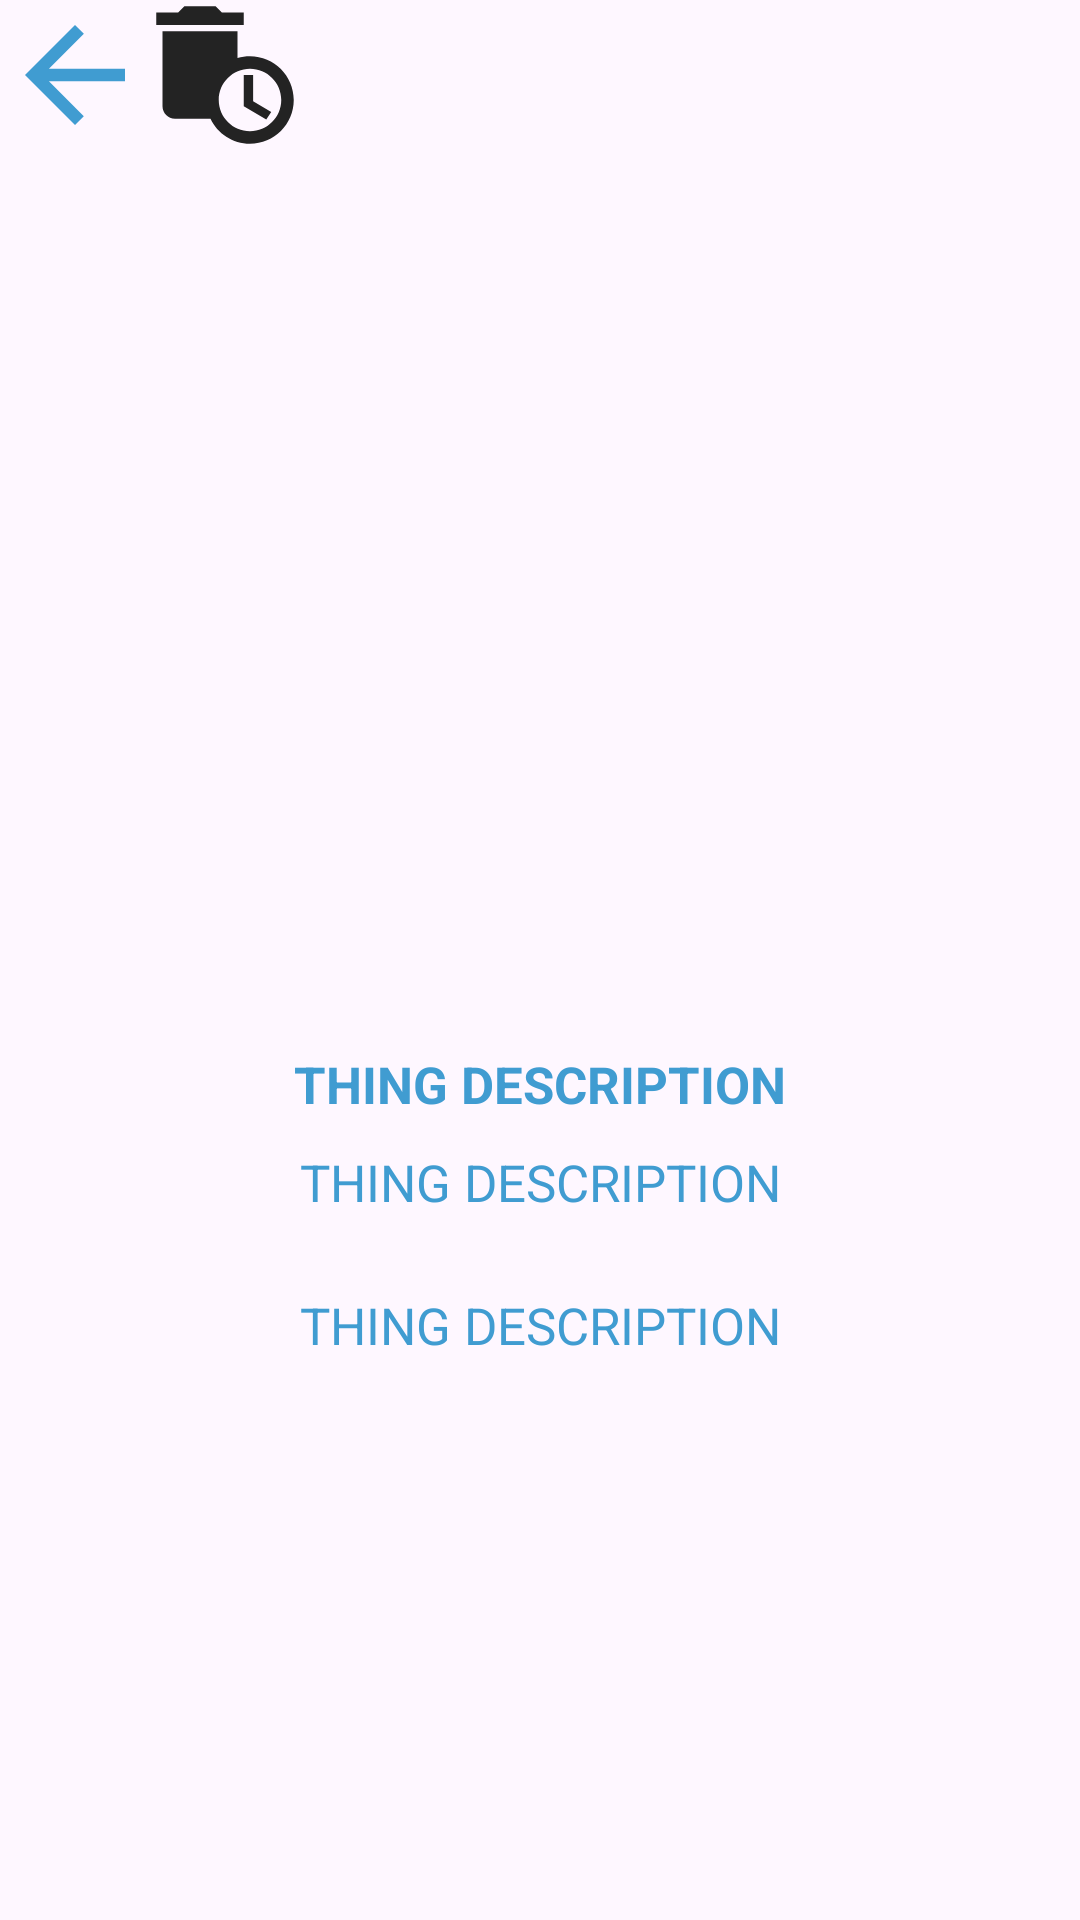

Icons on this 1080*1920 Android screen, each with its box as (x1, y1, x2, y2):
arrow: (25, 25, 125, 125)
auto delete: (156, 6, 294, 144)
